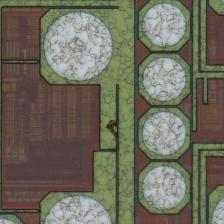PIQ PARTICLE: (102, 118, 125, 140)
